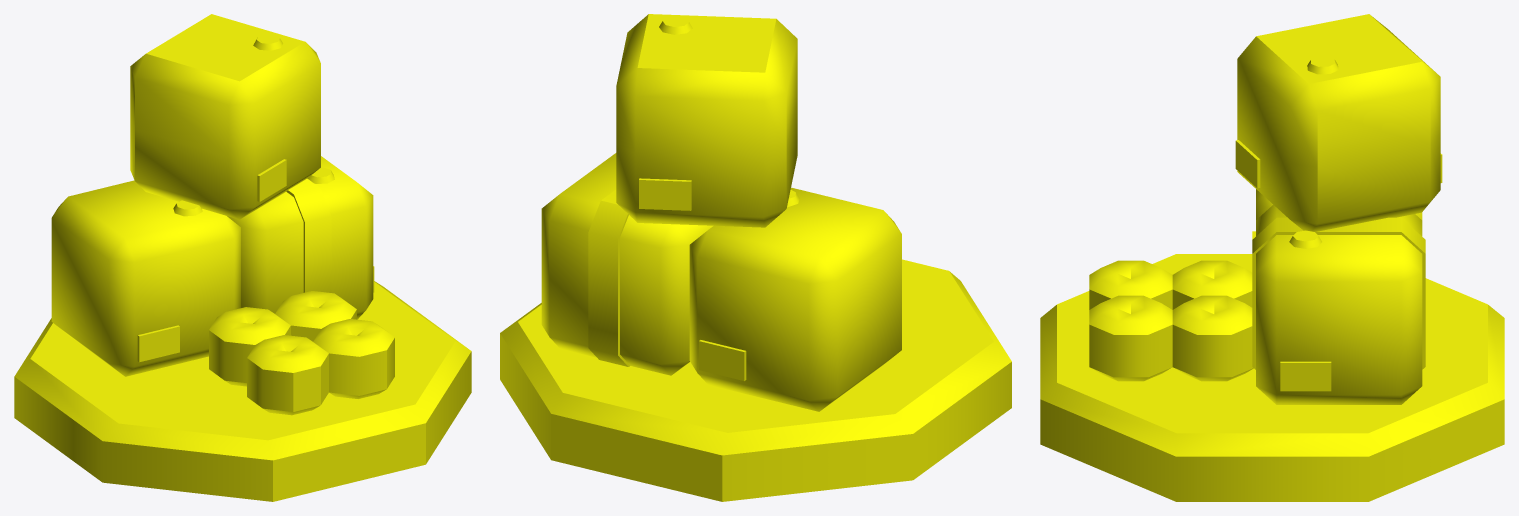
File: kaykit-roofmodule-cargo-b.glb
The picture shows the model from 3 angles, left to right: view 1: azimuth 30°, elevation 25°; view 2: azimuth 150°, elevation 25°; view 3: azimuth 270°, elevation 25°; orthographic projection. The views are drawn at different scales.
Visible parts, largest first — view 1: roofmodule_cargo_B; view 2: roofmodule_cargo_B; view 3: roofmodule_cargo_B.
Part boxes in pixels (<box>): roofmodule_cargo_B: <box>14,14,471,501</box>; roofmodule_cargo_B: <box>500,14,1011,501</box>; roofmodule_cargo_B: <box>1040,14,1504,501</box>.
Bounding box in the file's own units: 1.4 × 1.22 × 1.4.
